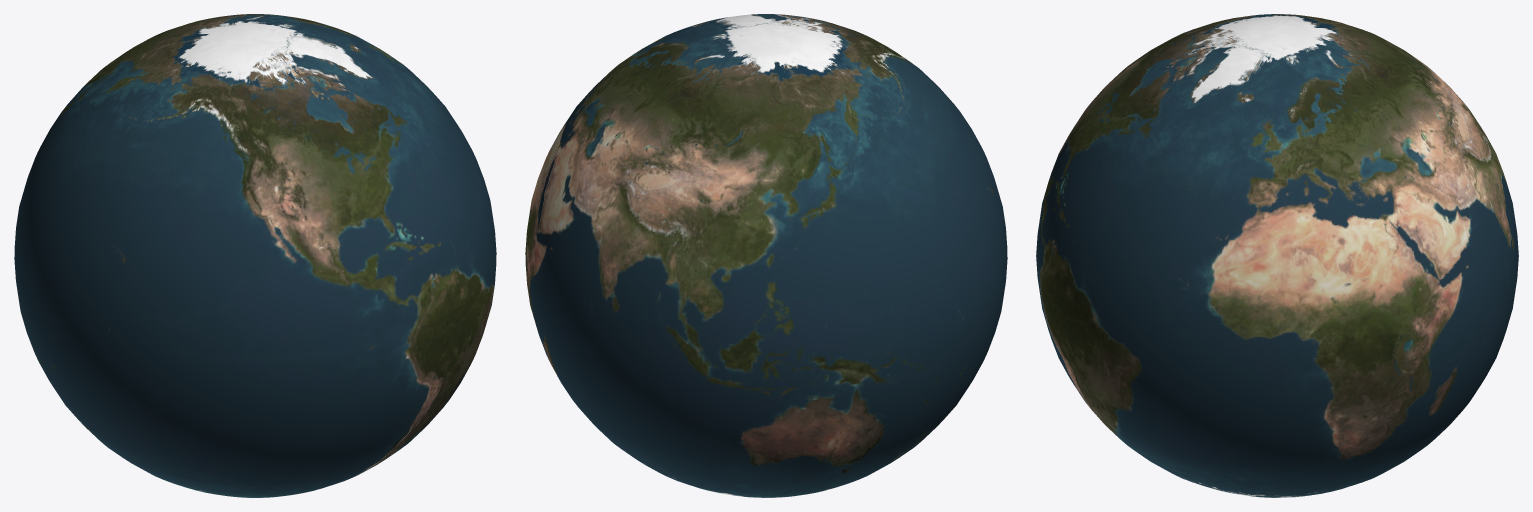
The model's file is Earth.glb.
3 renders of one model, left to right at view 1: azimuth 30°, elevation 25°; view 2: azimuth 150°, elevation 25°; view 3: azimuth 270°, elevation 25°, orthographic.
Parts seen in each view (by area): view 1: Planet; view 2: Planet; view 3: Planet.
Part boxes in pixels (x1,y1,x2,y2): Planet: (14, 14, 496, 497); Planet: (525, 14, 1007, 497); Planet: (1036, 14, 1518, 497).
Bounding box in the file's own units: 9.92 × 9.92 × 9.92.
1 material, 1 textured.
